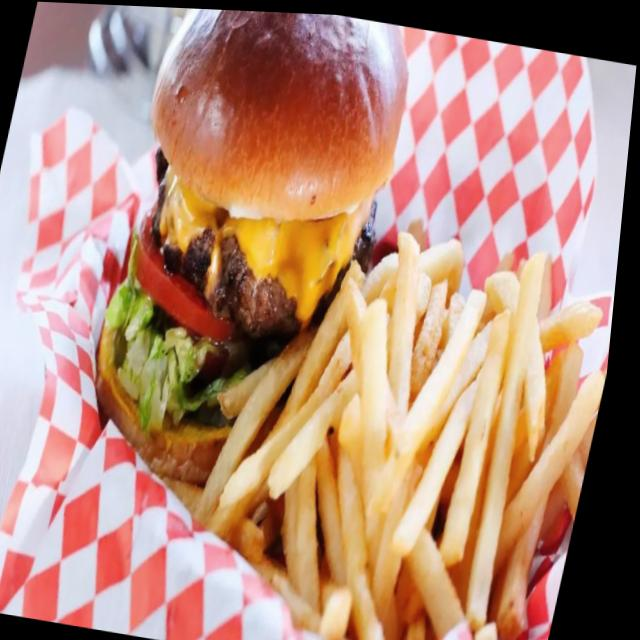burger: (77, 4, 424, 505)
